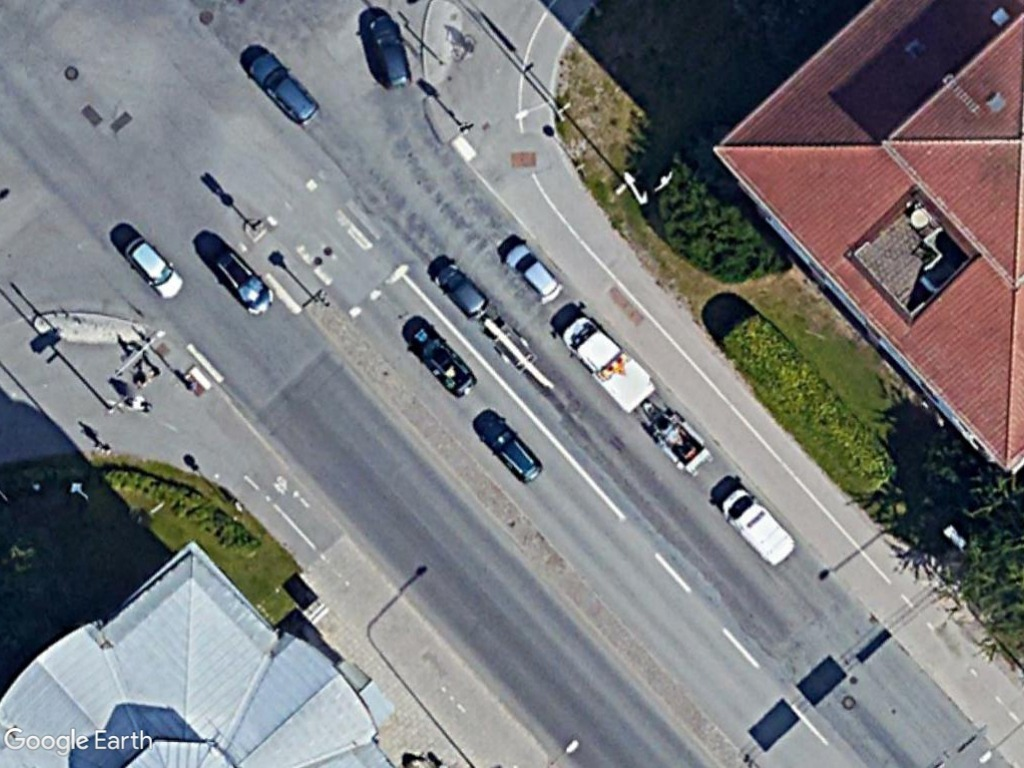car: (245, 50, 325, 127), (211, 246, 279, 318), (120, 231, 188, 302), (479, 414, 547, 485), (501, 241, 566, 305), (365, 13, 416, 92), (430, 260, 493, 321)
other: (557, 312, 658, 414)
van: (718, 483, 800, 569)
